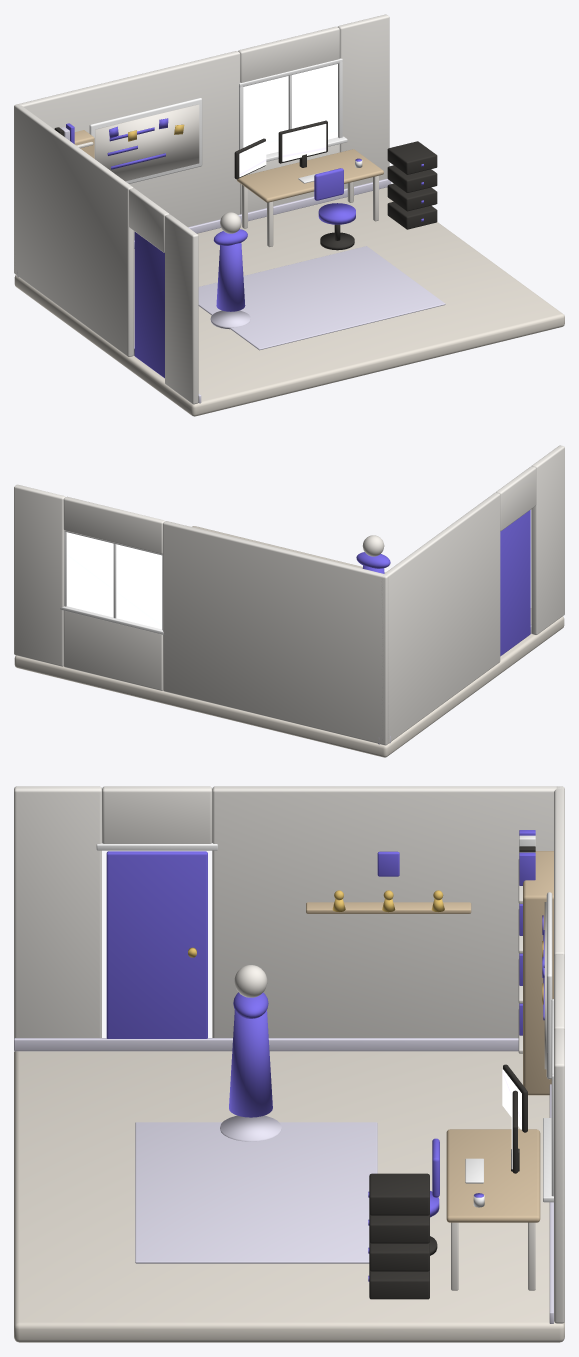
The model's file is room-coder.glb.
The picture shows the model from 3 angles, top to bottom: view 1: azimuth 30°, elevation 25°; view 2: azimuth 150°, elevation 25°; view 3: azimuth 270°, elevation 25°; orthographic projection. The views are drawn at different scales.
Parts seen in each view (by area): view 1: floor, wall_left_b, wall_back_l, rug, wall_back_r, wall_left_a, window_glass, wb_board, door_leaf, wall_back_hi, desk_top, fs_body (+14 smaller); view 2: wall_back_l, wall_left_b, wall_back_r, floor, window_glass, wall_back_lo, wall_left_a, door_leaf, wall_back_hi, wall_left_hi, wf_b, fs_shoulders; view 3: floor, wall_left_b, rug, wall_left_a, door_leaf, desk_top, base_left, wall_left_hi, bs_body, fs_body, wall_back_r, rack3 (+13 smaller).
Part boxes in pixels (x1,y1,x2,y2): floor: (14, 187, 564, 416); wall_left_b: (14, 104, 133, 356); wall_back_l: (14, 51, 240, 273); rug: (198, 246, 445, 350); wall_back_r: (338, 14, 389, 188); wall_left_a: (165, 214, 198, 404); window_glass: (243, 64, 337, 154); wb_board: (95, 104, 199, 181); door_leaf: (134, 232, 164, 378); wall_back_hi: (238, 26, 339, 82); desk_top: (237, 149, 383, 202); fs_body: (216, 237, 245, 311); wall_back_l: (163, 521, 388, 745); wall_left_b: (381, 492, 500, 744); wall_back_r: (14, 484, 65, 666); floor: (14, 526, 564, 757); window_glass: (67, 532, 162, 629); wall_back_lo: (63, 610, 162, 690); wall_left_a: (531, 445, 564, 634); door_leaf: (500, 510, 530, 656); wall_back_hi: (63, 496, 165, 554); wall_left_hi: (496, 466, 536, 531); wf_b: (60, 606, 163, 634); fs_shoulders: (356, 552, 390, 568); floor: (14, 1051, 564, 1342); wall_left_b: (212, 786, 563, 1037); rug: (135, 1122, 377, 1263); wall_left_a: (14, 786, 101, 1038); door_leaf: (106, 851, 207, 1038); desk_top: (446, 1129, 540, 1222); base_left: (14, 1038, 518, 1051); wall_left_hi: (102, 786, 212, 843); bs_body: (523, 851, 553, 1095); fs_body: (229, 997, 272, 1117); wall_back_r: (554, 1028, 564, 1323); rack3: (369, 1173, 429, 1215).
Size of the model in its own units: 6 by 2.8 by 5.
